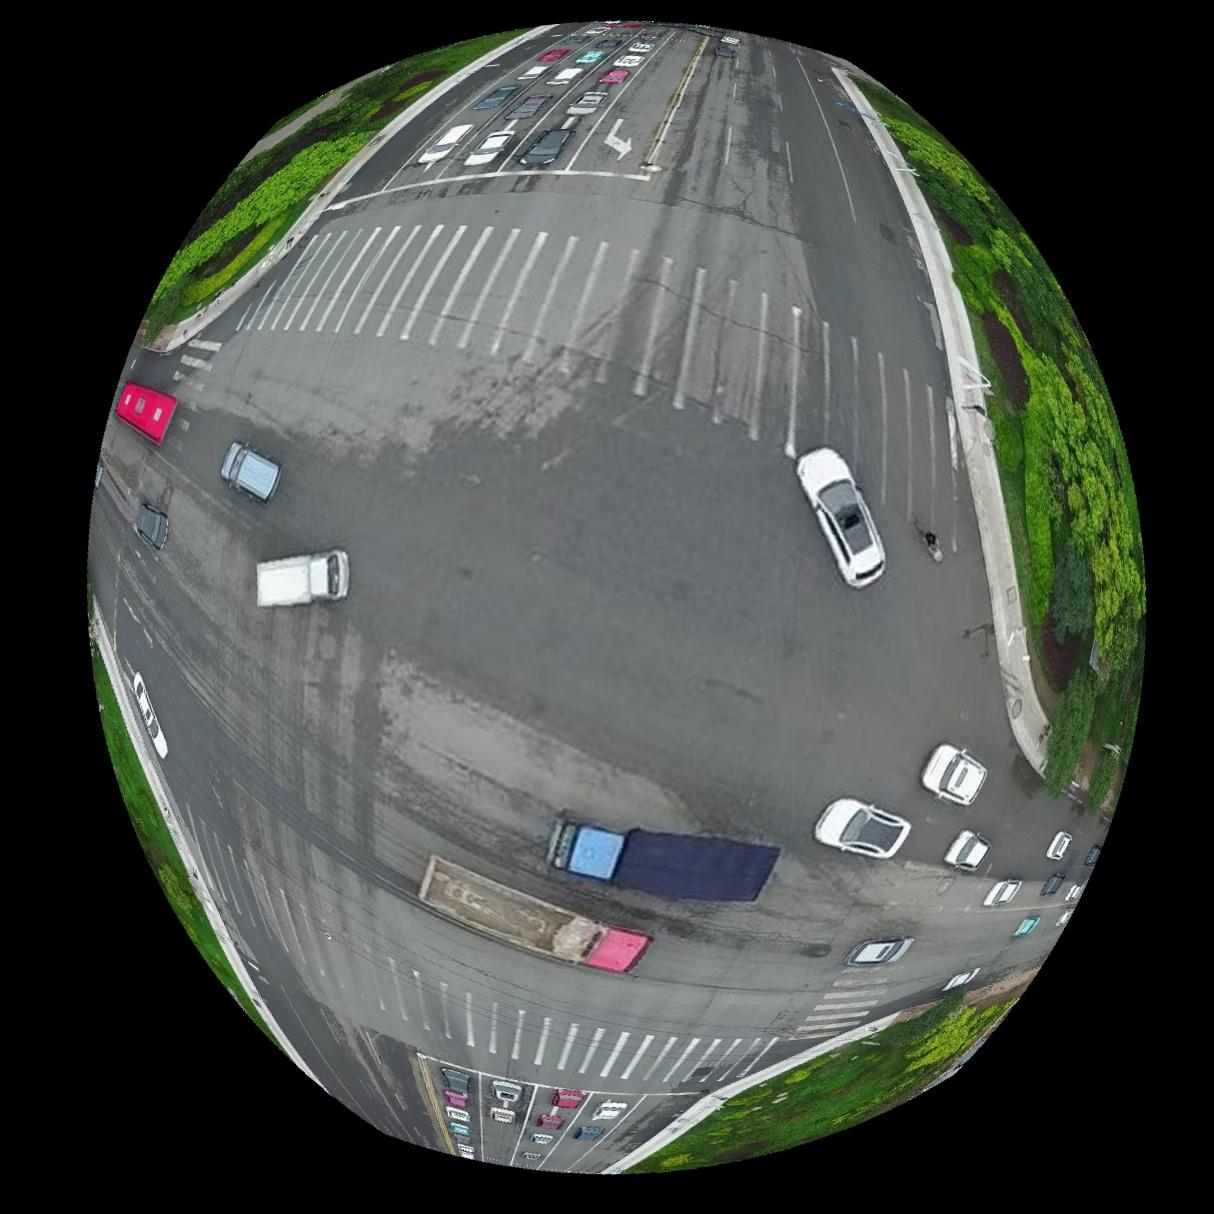cars: (417, 857, 649, 974), (550, 823, 779, 904), (797, 449, 885, 588), (814, 800, 910, 860), (253, 551, 347, 608), (922, 745, 988, 806), (112, 382, 173, 444), (220, 442, 278, 502), (518, 127, 573, 167), (416, 125, 470, 163), (462, 128, 513, 166), (945, 832, 989, 872), (847, 942, 913, 968), (984, 883, 1022, 909), (566, 90, 605, 112), (1047, 833, 1072, 860)
